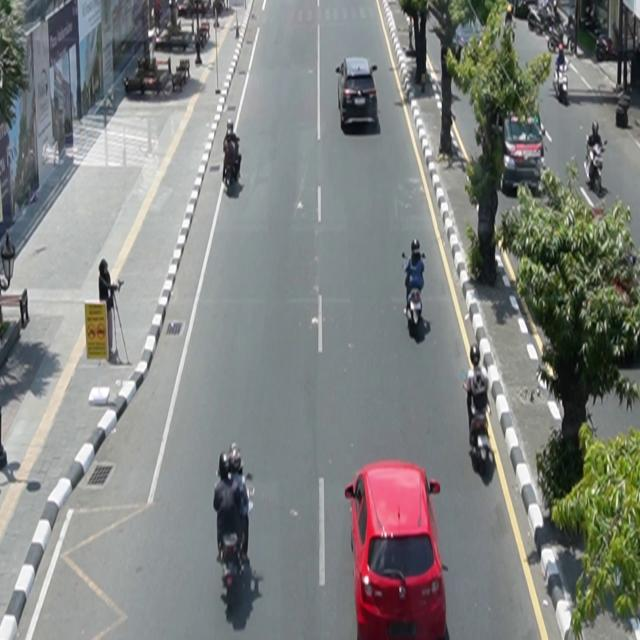car: (345, 461, 448, 640), (501, 111, 546, 197), (336, 57, 379, 130)
